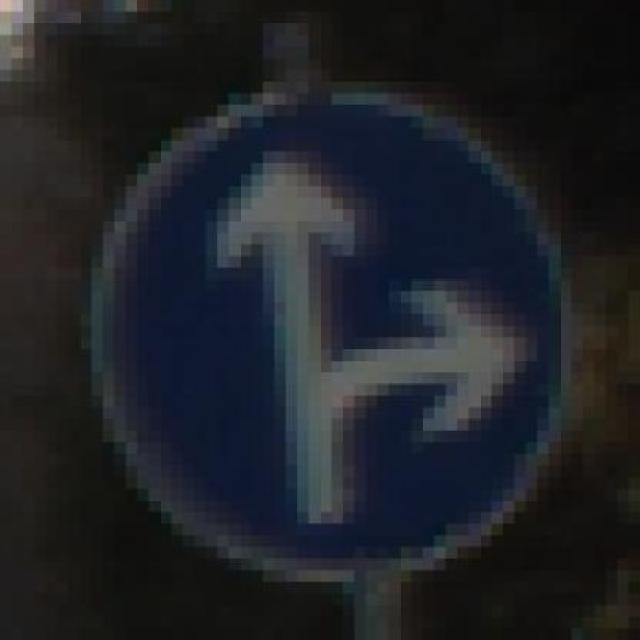Go Straight or Turn Right: (57, 69, 606, 594)
